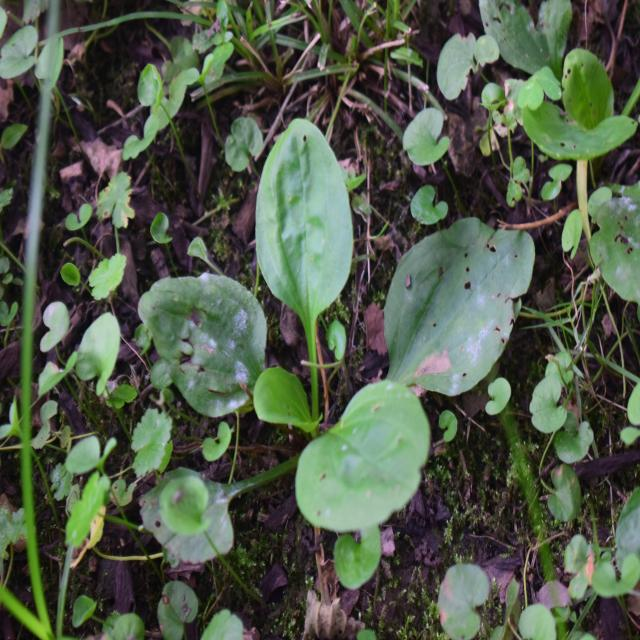plantain: (142, 122, 522, 534)
